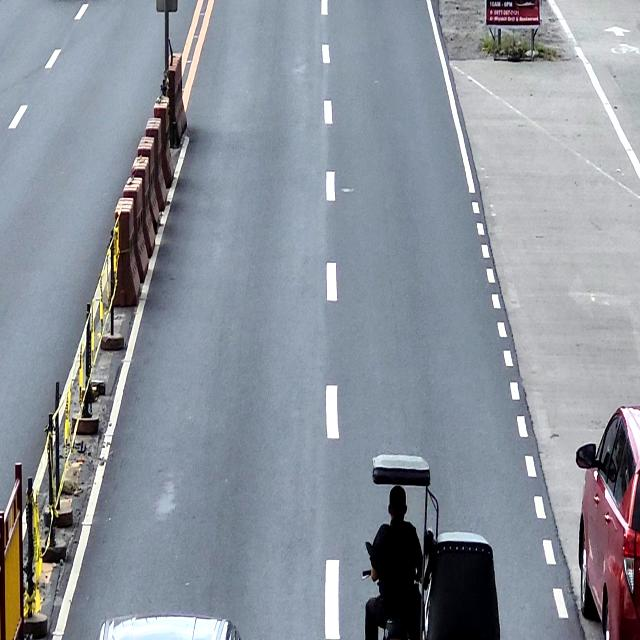Car: (574, 403, 640, 640)
Tricycle: (365, 452, 502, 640)
